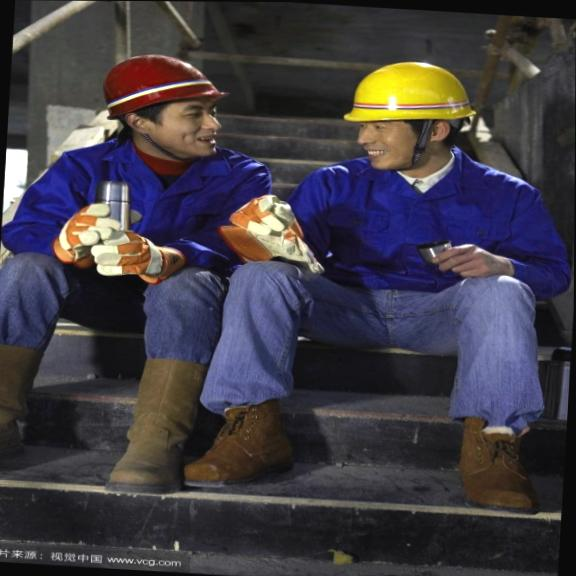no_safety_vest: (290, 149, 560, 288), (38, 138, 254, 291)
